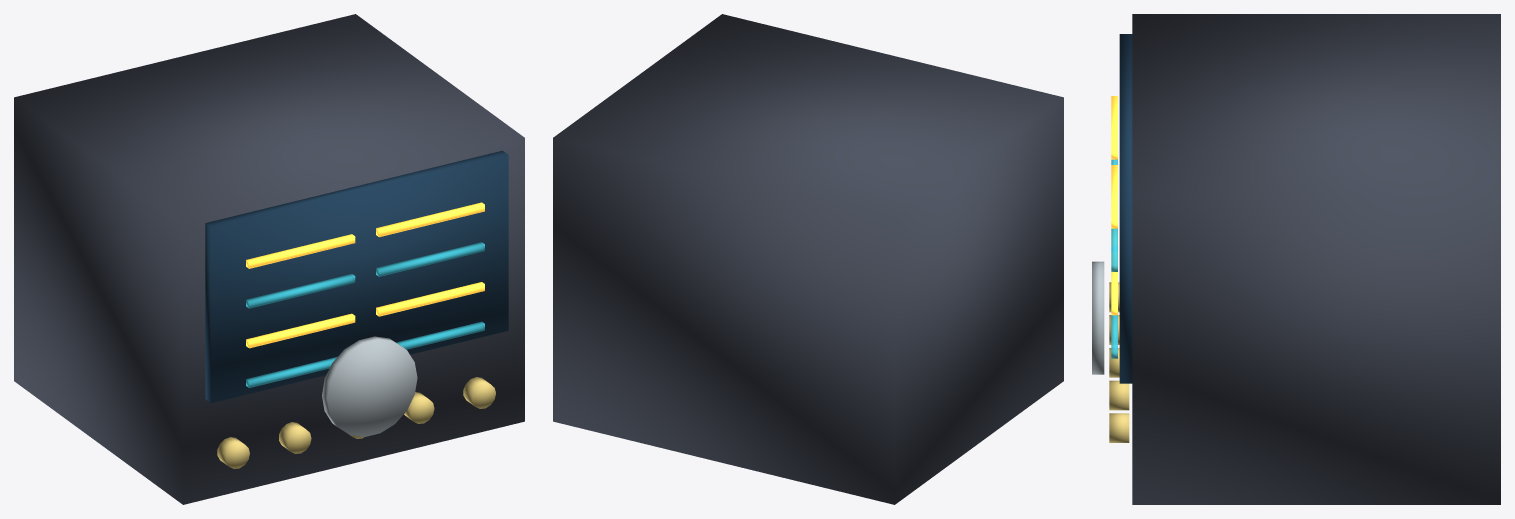
The model's file is 16_L95_PrecisionDigitalMultimeter.fbx.
3 renders of one model, left to right at view 1: azimuth 30°, elevation 25°; view 2: azimuth 150°, elevation 25°; view 3: azimuth 270°, elevation 25°, orthographic. The views are drawn at different scales.
Visible parts, largest first — view 1: L95_PrecisionDigitalMultimete_Part_0000, L95_PrecisionDigitalMultimete_Part_0001, L95_PrecisionDigitalMultimete_Part_0005, L95_PrecisionDigitalMultimete_Part_0002, L95_PrecisionDigitalMultimete_Part_0003, L95_PrecisionDigitalMultimete_Part_0004; view 2: L95_PrecisionDigitalMultimete_Part_0000; view 3: L95_PrecisionDigitalMultimete_Part_0000, L95_PrecisionDigitalMultimete_Part_0001, L95_PrecisionDigitalMultimete_Part_0004, L95_PrecisionDigitalMultimete_Part_0005, L95_PrecisionDigitalMultimete_Part_0002, L95_PrecisionDigitalMultimete_Part_0003.
Part boxes in pixels (x1,y1,x2,y2): L95_PrecisionDigitalMultimete_Part_0000: (14, 14, 524, 504); L95_PrecisionDigitalMultimete_Part_0001: (205, 150, 508, 403); L95_PrecisionDigitalMultimete_Part_0005: (322, 336, 417, 436); L95_PrecisionDigitalMultimete_Part_0002: (246, 202, 484, 348); L95_PrecisionDigitalMultimete_Part_0003: (246, 242, 484, 387); L95_PrecisionDigitalMultimete_Part_0004: (217, 377, 495, 468); L95_PrecisionDigitalMultimete_Part_0000: (553, 14, 1063, 504); L95_PrecisionDigitalMultimete_Part_0000: (1132, 14, 1500, 504); L95_PrecisionDigitalMultimete_Part_0001: (1119, 34, 1132, 383); L95_PrecisionDigitalMultimete_Part_0004: (1109, 282, 1129, 442); L95_PrecisionDigitalMultimete_Part_0005: (1092, 261, 1104, 374); L95_PrecisionDigitalMultimete_Part_0002: (1111, 96, 1117, 315); L95_PrecisionDigitalMultimete_Part_0003: (1111, 159, 1117, 358).
Bounding box in the file's own units: 0.63 × 0.5 × 0.599.
